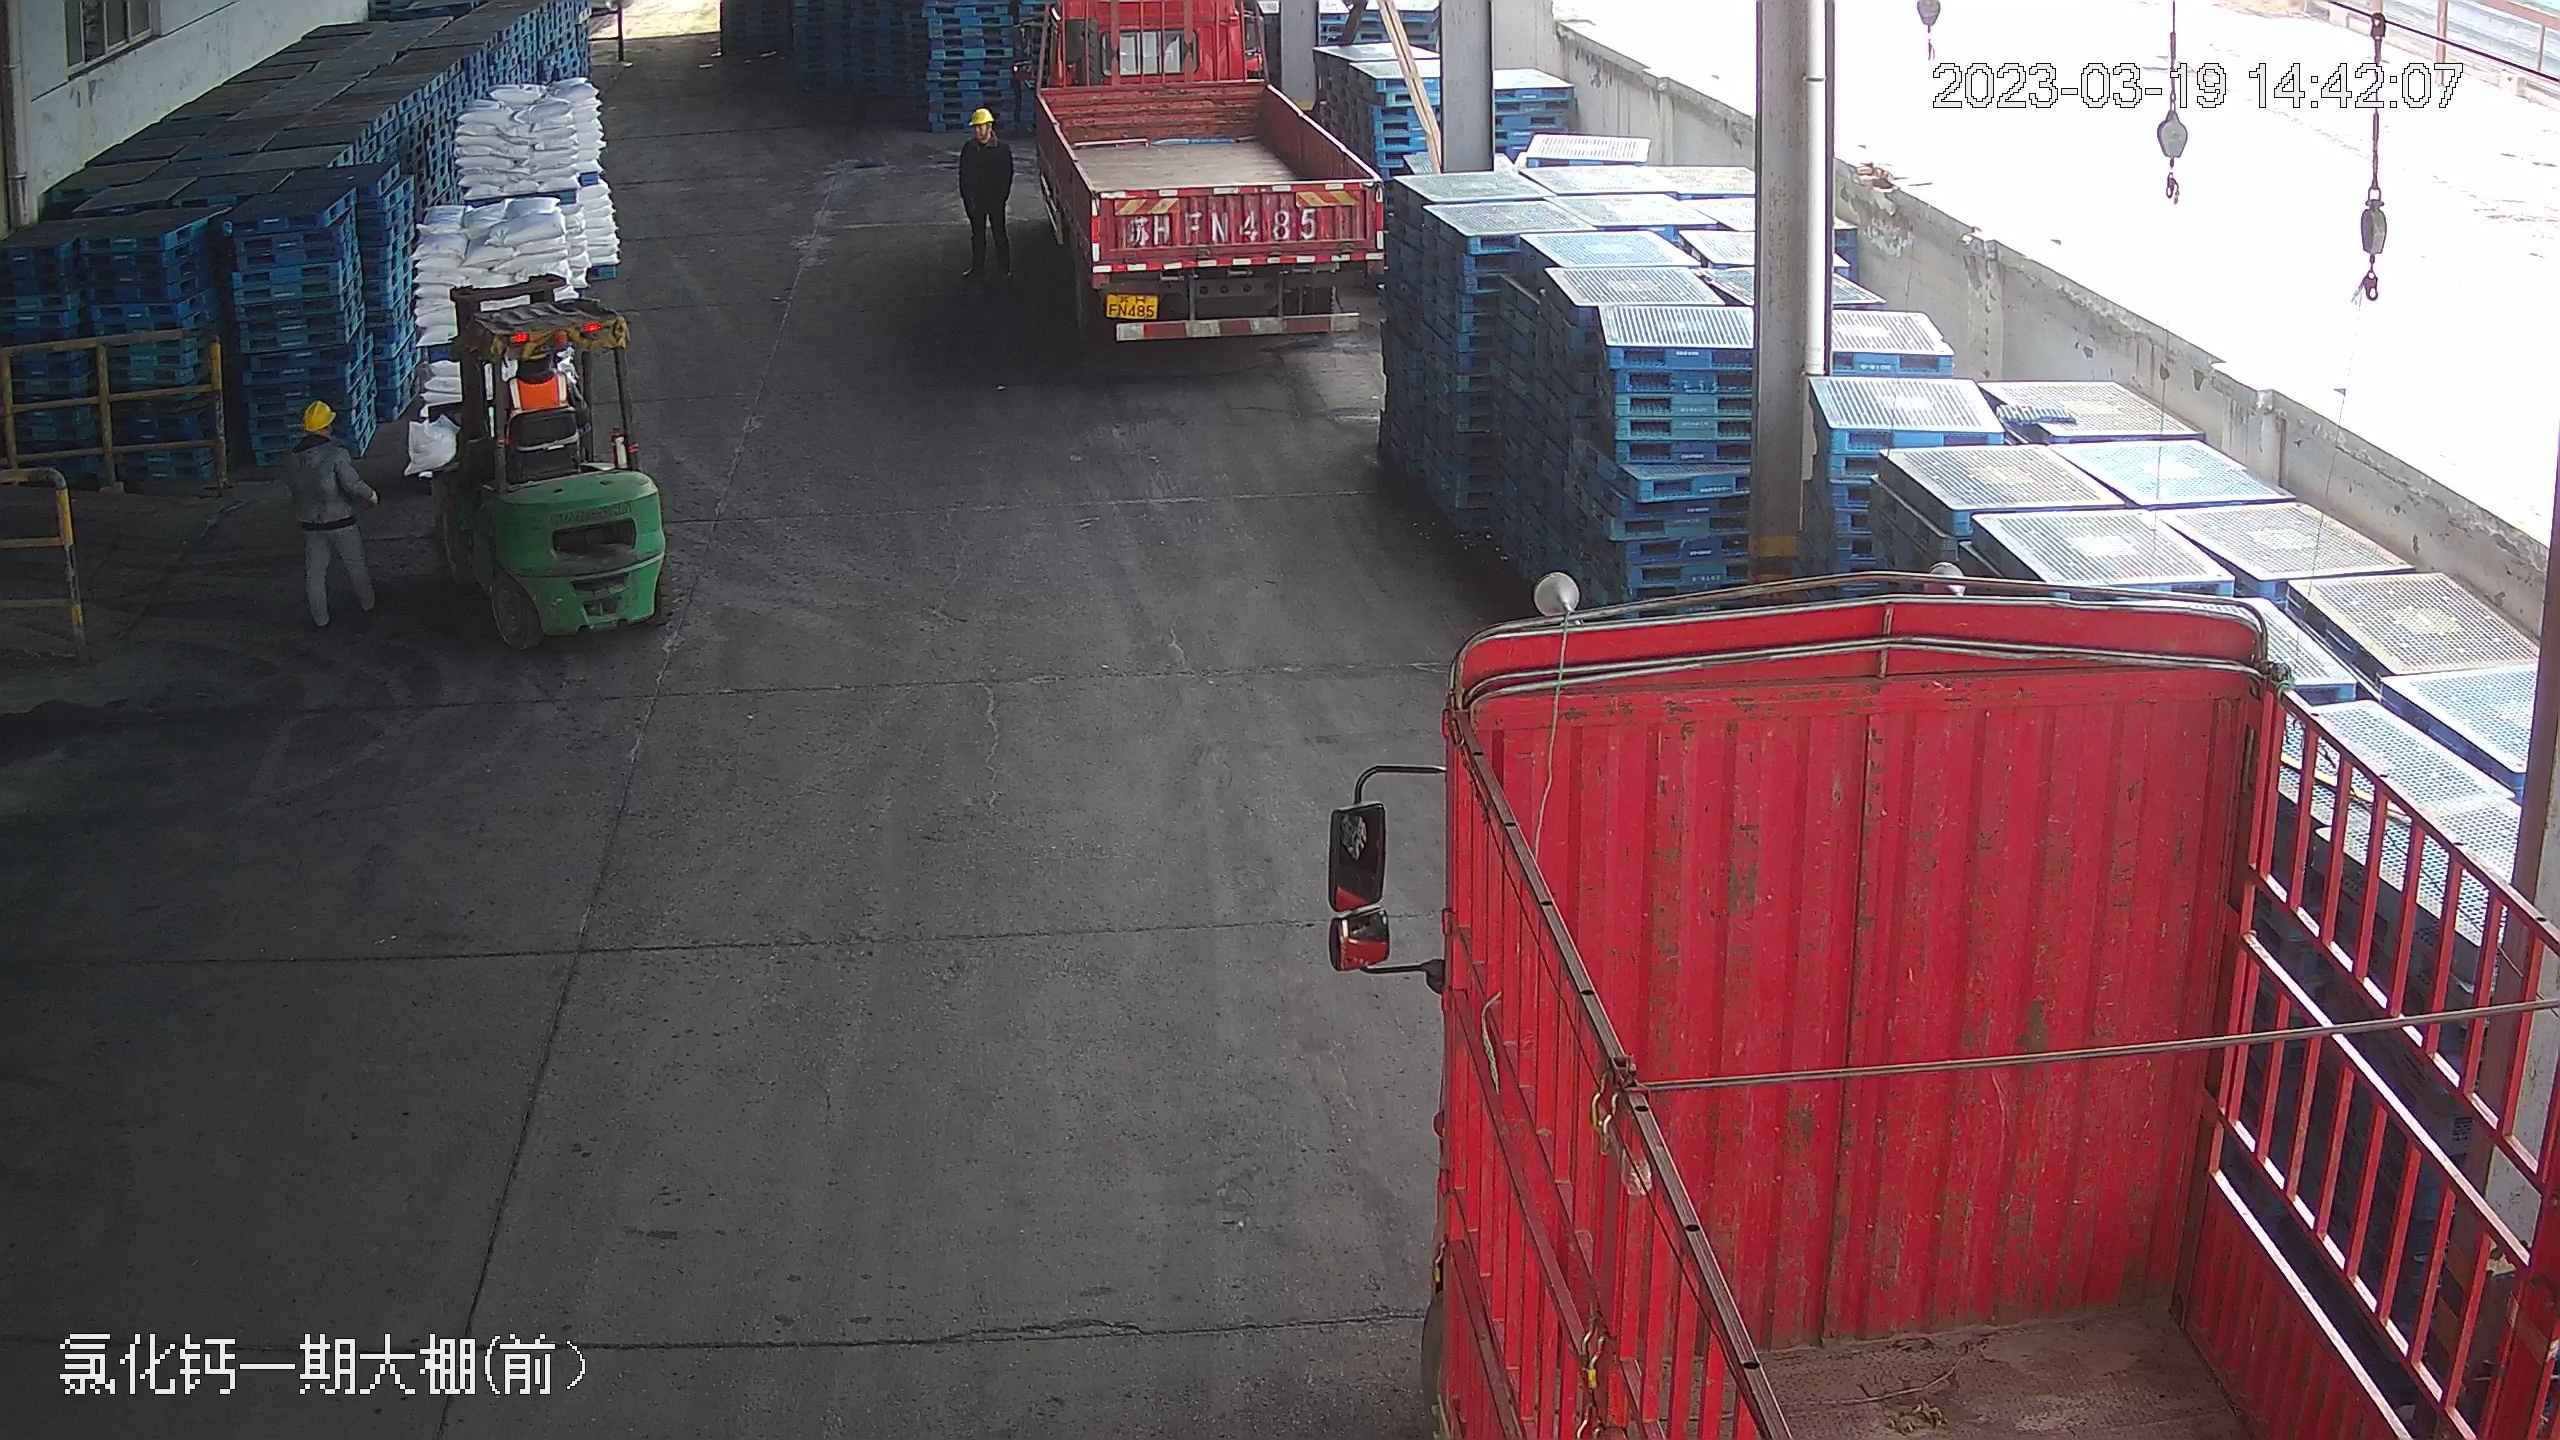head: (290, 399, 354, 472), (958, 108, 1009, 157)
helmet: (299, 398, 335, 430), (969, 108, 996, 128)
people: (285, 398, 384, 630), (953, 104, 1014, 282)
truck: (1364, 538, 2553, 1440), (1010, 1, 1387, 346)
